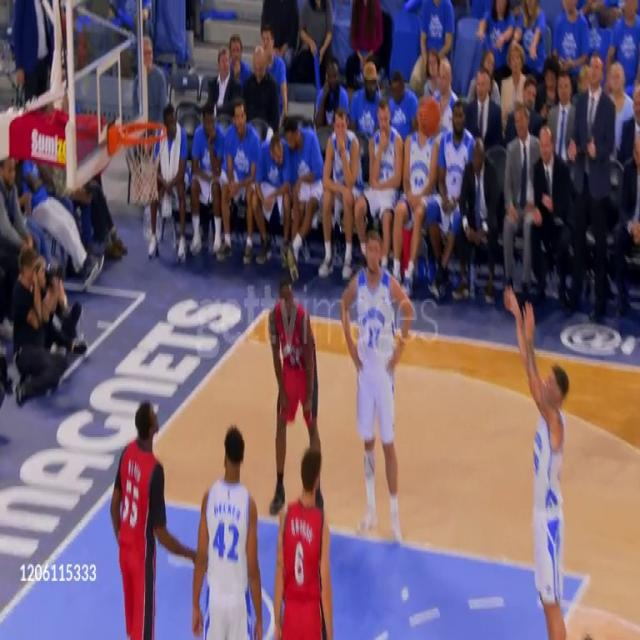ball: (417, 95, 441, 142)
